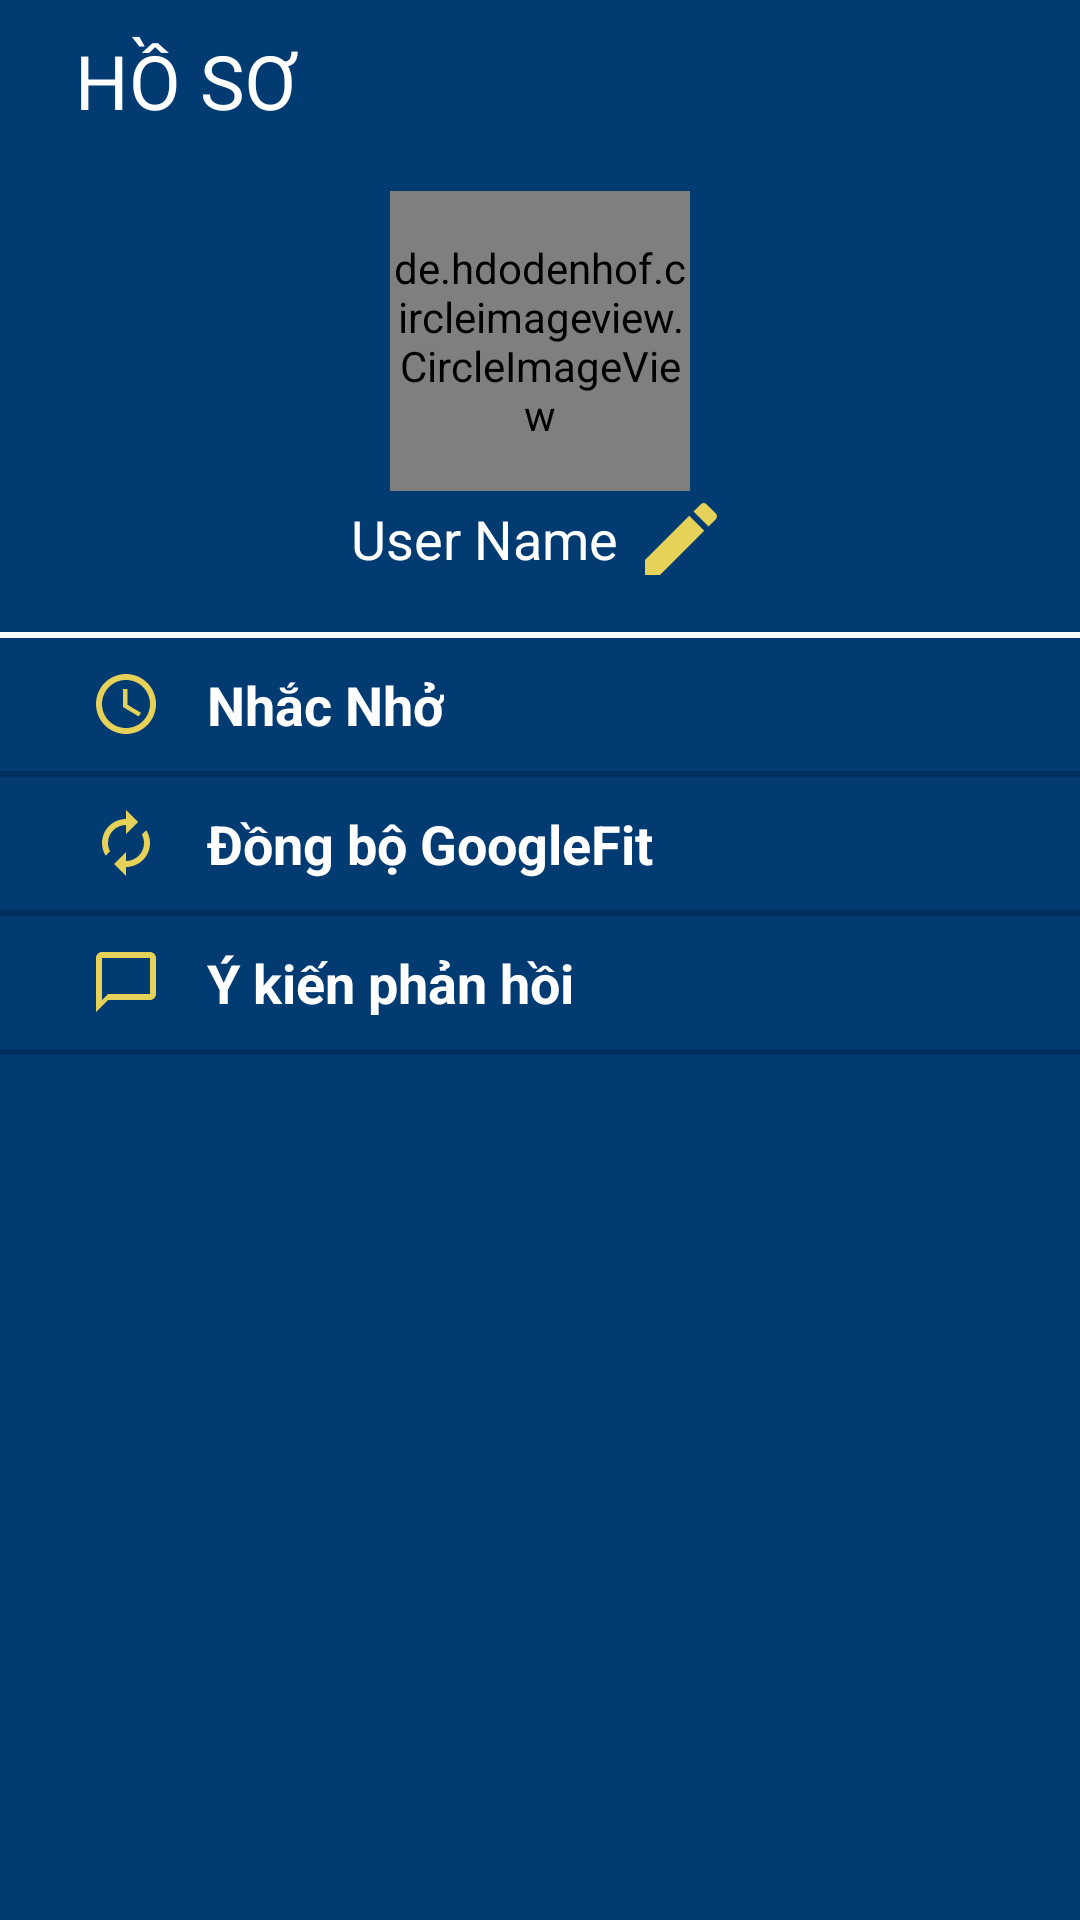

Where to tap for icons on this 1080w x 1920h app screen, as point (x, y):
access time: point (126, 704)
autorenew: point (126, 843)
chat: point (126, 982)
